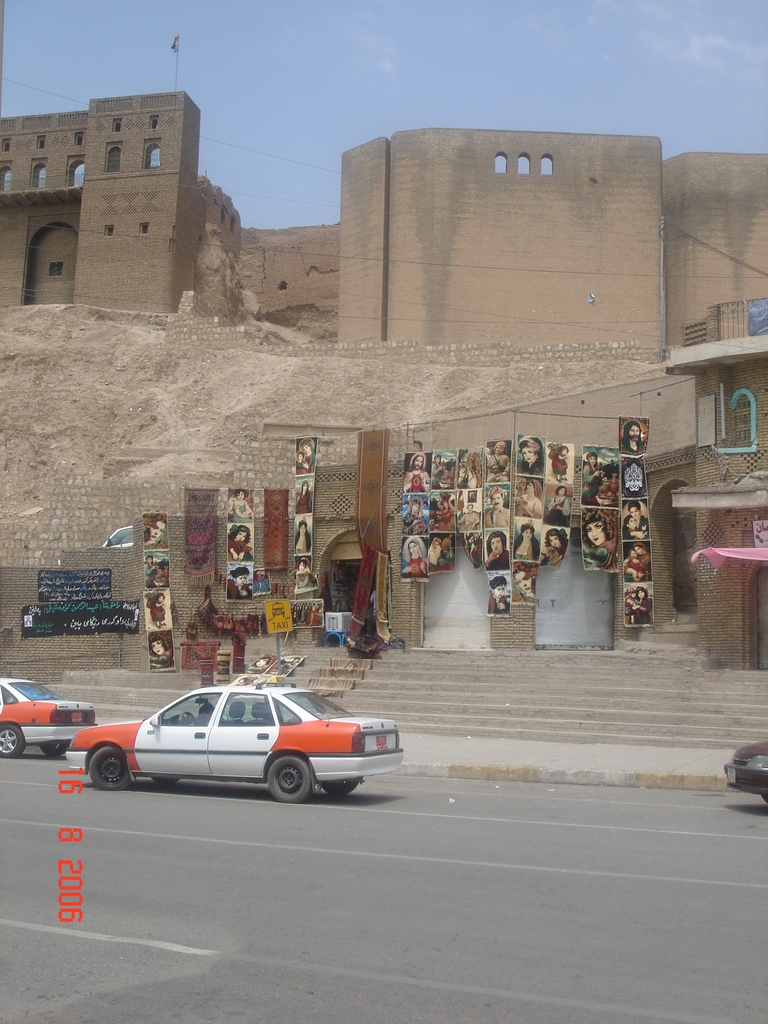Car: (67, 678, 399, 798), (0, 678, 90, 762), (725, 741, 767, 807)
